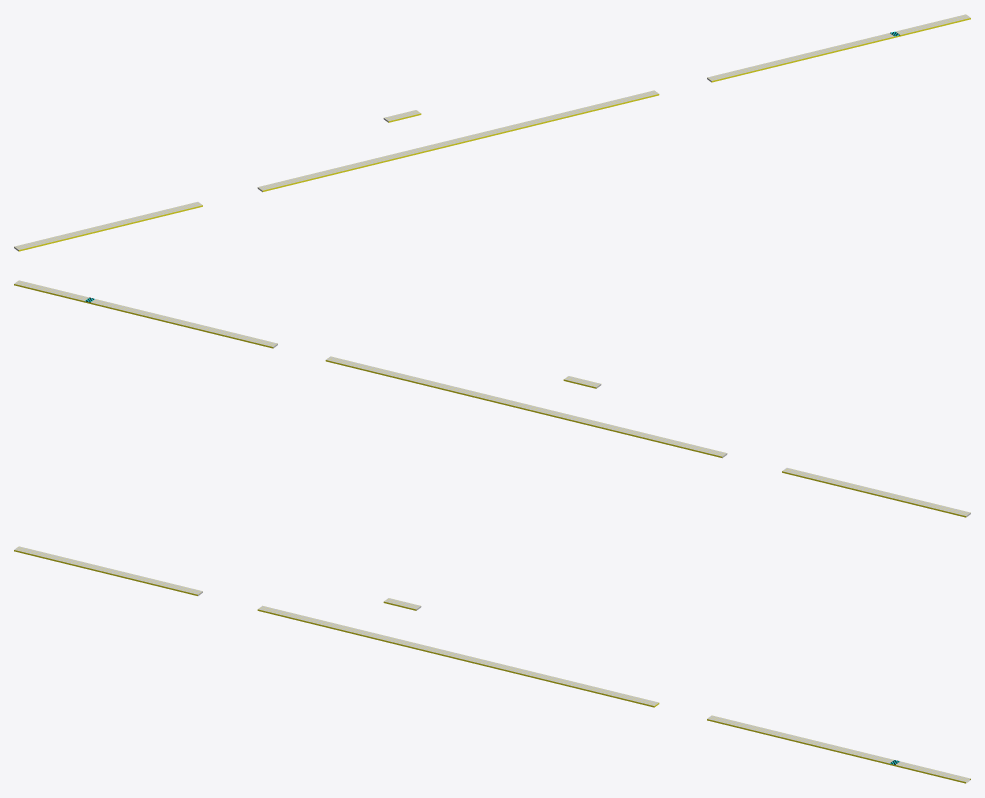
The model's file is Roud lvl15.fbx.
3 views of the same model, one above another, from view 1: azimuth 30°, elevation 25°; view 2: azimuth 150°, elevation 25°; view 3: azimuth 330°, elevation 25° (orthographic).
Visible parts, largest first — view 1: Roud.002, Roud.003, Roud.004; view 2: Roud.002, Roud.003, Roud.004; view 3: Roud.002, Roud.003, Roud.004.
Boxes of the visible parts, x1,y1,x2,y2 form: Roud.002: [257, 90, 659, 192]; Roud.003: [707, 14, 970, 82]; Roud.004: [14, 202, 202, 251]; Roud.002: [325, 356, 727, 458]; Roud.003: [14, 280, 277, 348]; Roud.004: [782, 468, 970, 517]; Roud.002: [257, 605, 659, 707]; Roud.003: [707, 715, 970, 783]; Roud.004: [14, 546, 202, 595].
Bounding box in the file's own units: 67180 × 2700 × 600.
